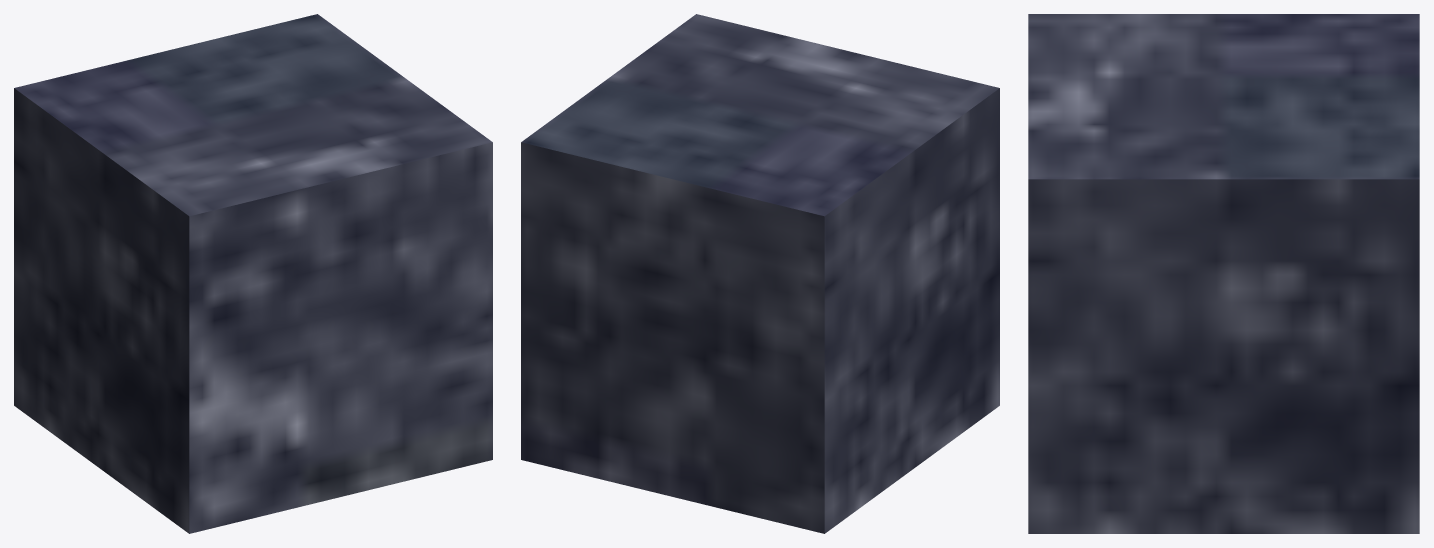
File: foot_lb.obj
3 views of the same model, side by side, from view 1: azimuth 30°, elevation 25°; view 2: azimuth 150°, elevation 25°; view 3: azimuth 270°, elevation 25° (orthographic). The views are drawn at different scales.
Parts seen in each view (by area): view 1: Bomb-SKP--Stone_Granite_BluePearl_e; view 2: Bomb-SKP--Stone_Granite_BluePearl_e; view 3: Bomb-SKP--Stone_Granite_BluePearl_e.
Part boxes in pixels (bbox=[...]): Bomb-SKP--Stone_Granite_BluePearl_e: bbox=[14, 14, 492, 533]; Bomb-SKP--Stone_Granite_BluePearl_e: bbox=[521, 14, 999, 533]; Bomb-SKP--Stone_Granite_BluePearl_e: bbox=[1028, 14, 1419, 533].
Size of the model in its own units: 0.025 by 0.025 by 0.025.
1 material, 1 textured.
